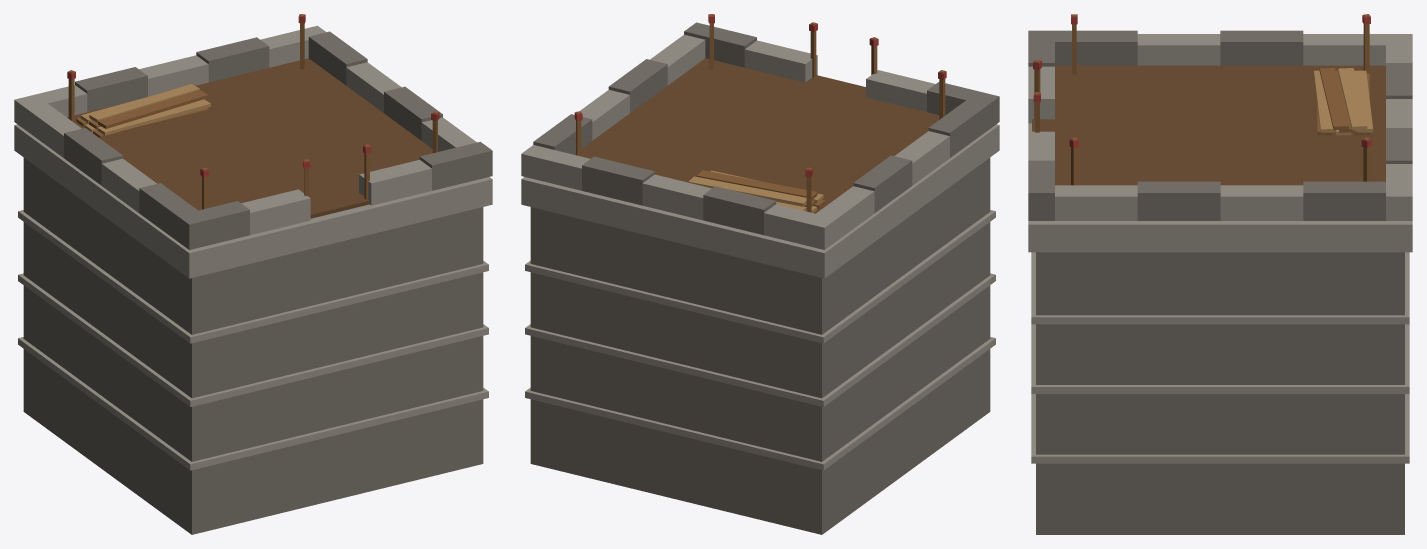
File: site_5x5_1.glb
The picture shows the model from 3 angles, left to right: view 1: azimuth 30°, elevation 25°; view 2: azimuth 150°, elevation 25°; view 3: azimuth 270°, elevation 25°; orthographic projection. The views are drawn at different scales.
Visible parts, largest first — view 1: site_5x5_1; view 2: site_5x5_1; view 3: site_5x5_1.
Part boxes in pixels (x1,y1,x2,y2): site_5x5_1: (14,14,492,534); site_5x5_1: (521,14,999,534); site_5x5_1: (1028,14,1412,534).
Size of the model in its own units: 5 by 5.45 by 5.
